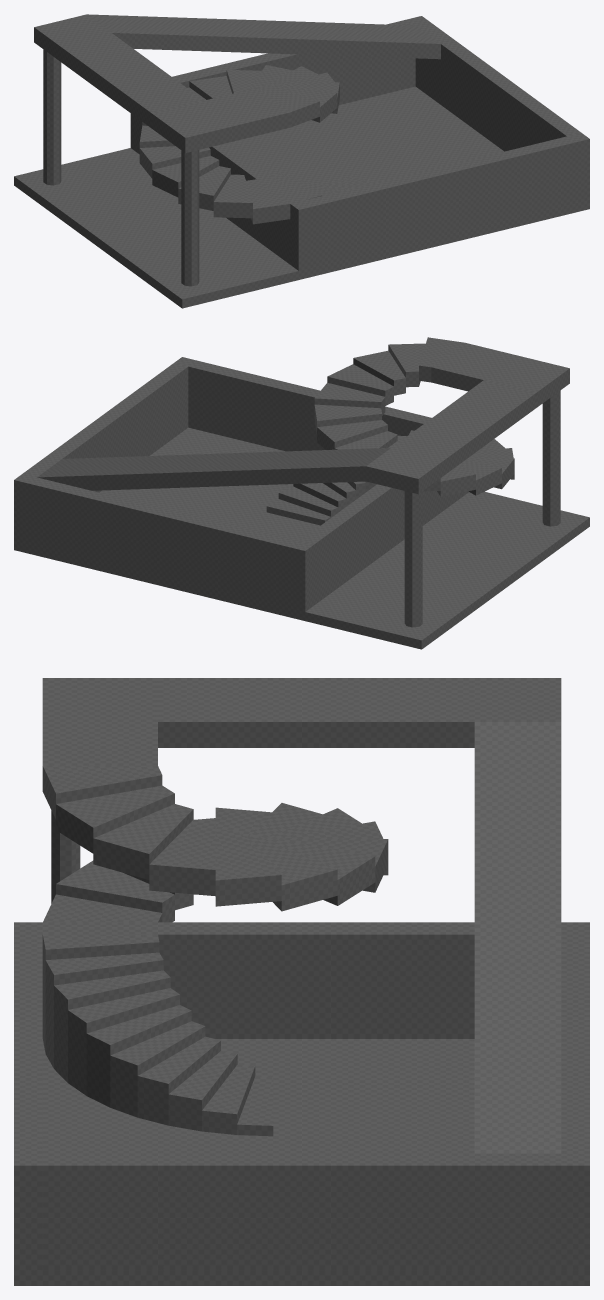
Rendered from SkySpheres.gltf.
3 renders of one model, top to bottom at view 1: azimuth 30°, elevation 25°; view 2: azimuth 150°, elevation 25°; view 3: azimuth 270°, elevation 25°, orthographic. The views are drawn at different scales.
Parts seen in each view (by area): view 1: Box_Brush6_StaticMesh_StaticMeshComponent0, Box_Brush5_StaticMesh_StaticMeshComponent0, Box_Brush2_StaticMesh_StaticMeshComponent0, Spiral_Stair_Brush_StaticMesh_StaticMeshComponent0, Box_Brush4_StaticMesh_StaticMeshComponent0, Box_Brush_StaticMesh_StaticMeshComponent0, Box_Brush3_StaticMesh_StaticMeshComponent0, Cylinder_Brush_StaticMesh_StaticMeshComponent0, Cylinder_Brush_StaticMesh2_StaticMeshComponent0, Curved_Stair_Brush_StaticMesh_StaticMeshComponent0; view 2: Box_Brush6_StaticMesh_StaticMeshComponent0, Box_Brush5_StaticMesh_StaticMeshComponent0, Box_Brush_StaticMesh_StaticMeshComponent0, Spiral_Stair_Brush_StaticMesh_StaticMeshComponent0, Box_Brush2_StaticMesh_StaticMeshComponent0, Box_Brush3_StaticMesh_StaticMeshComponent0, Box_Brush4_StaticMesh_StaticMeshComponent0, Curved_Stair_Brush_StaticMesh_StaticMeshComponent0, Cylinder_Brush_StaticMesh2_StaticMeshComponent0, Cylinder_Brush_StaticMesh_StaticMeshComponent0; view 3: Box_Brush5_StaticMesh_StaticMeshComponent0, Box_Brush4_StaticMesh_StaticMeshComponent0, Box_Brush6_StaticMesh_StaticMeshComponent0, Spiral_Stair_Brush_StaticMesh_StaticMeshComponent0, Box_Brush3_StaticMesh_StaticMeshComponent0, Curved_Stair_Brush_StaticMesh_StaticMeshComponent0, Box_Brush_StaticMesh_StaticMeshComponent0, Box_Brush2_StaticMesh_StaticMeshComponent0, Cylinder_Brush_StaticMesh_StaticMeshComponent0.
Part boxes in pixels (x1,y1,x2,y2): Box_Brush6_StaticMesh_StaticMeshComponent0: (14, 86, 589, 308); Box_Brush5_StaticMesh_StaticMeshComponent0: (34, 14, 440, 152); Box_Brush2_StaticMesh_StaticMeshComponent0: (290, 133, 589, 270); Spiral_Stair_Brush_StaticMesh_StaticMeshComponent0: (139, 65, 339, 224); Box_Brush4_StaticMesh_StaticMeshComponent0: (415, 22, 581, 151); Box_Brush_StaticMesh_StaticMeshComponent0: (130, 16, 429, 153); Box_Brush3_StaticMesh_StaticMeshComponent0: (139, 119, 304, 264); Cylinder_Brush_StaticMesh_StaticMeshComponent0: (181, 150, 199, 286); Cylinder_Brush_StaticMesh2_StaticMeshComponent0: (43, 49, 61, 185); Curved_Stair_Brush_StaticMesh_StaticMeshComponent0: (271, 173, 369, 200); Box_Brush6_StaticMesh_StaticMeshComponent0: (14, 427, 589, 649); Box_Brush5_StaticMesh_StaticMeshComponent0: (37, 342, 569, 494); Box_Brush_StaticMesh_StaticMeshComponent0: (14, 474, 313, 611); Spiral_Stair_Brush_StaticMesh_StaticMeshComponent0: (314, 337, 514, 496); Box_Brush2_StaticMesh_StaticMeshComponent0: (174, 357, 468, 494); Box_Brush3_StaticMesh_StaticMeshComponent0: (299, 484, 464, 605); Box_Brush4_StaticMesh_StaticMeshComponent0: (22, 363, 188, 492); Curved_Stair_Brush_StaticMesh_StaticMeshComponent0: (266, 430, 414, 525); Cylinder_Brush_StaticMesh2_StaticMeshComponent0: (404, 491, 422, 627); Cylinder_Brush_StaticMesh_StaticMeshComponent0: (542, 390, 560, 526); Box_Brush5_StaticMesh_StaticMeshComponent0: (42, 678, 561, 1153); Box_Brush4_StaticMesh_StaticMeshComponent0: (42, 1153, 561, 1270); Box_Brush6_StaticMesh_StaticMeshComponent0: (14, 1039, 589, 1285); Spiral_Stair_Brush_StaticMesh_StaticMeshComponent0: (42, 765, 388, 922); Box_Brush3_StaticMesh_StaticMeshComponent0: (42, 922, 474, 1038); Curved_Stair_Brush_StaticMesh_StaticMeshComponent0: (42, 934, 273, 1136); Box_Brush_StaticMesh_StaticMeshComponent0: (561, 922, 589, 1270); Box_Brush2_StaticMesh_StaticMeshComponent0: (14, 922, 42, 1270); Cylinder_Brush_StaticMesh_StaticMeshComponent0: (51, 810, 80, 903).
Size of the model in its own units: 14 by 5.3 by 10.
Materials: 1 (1 with a texture image).
